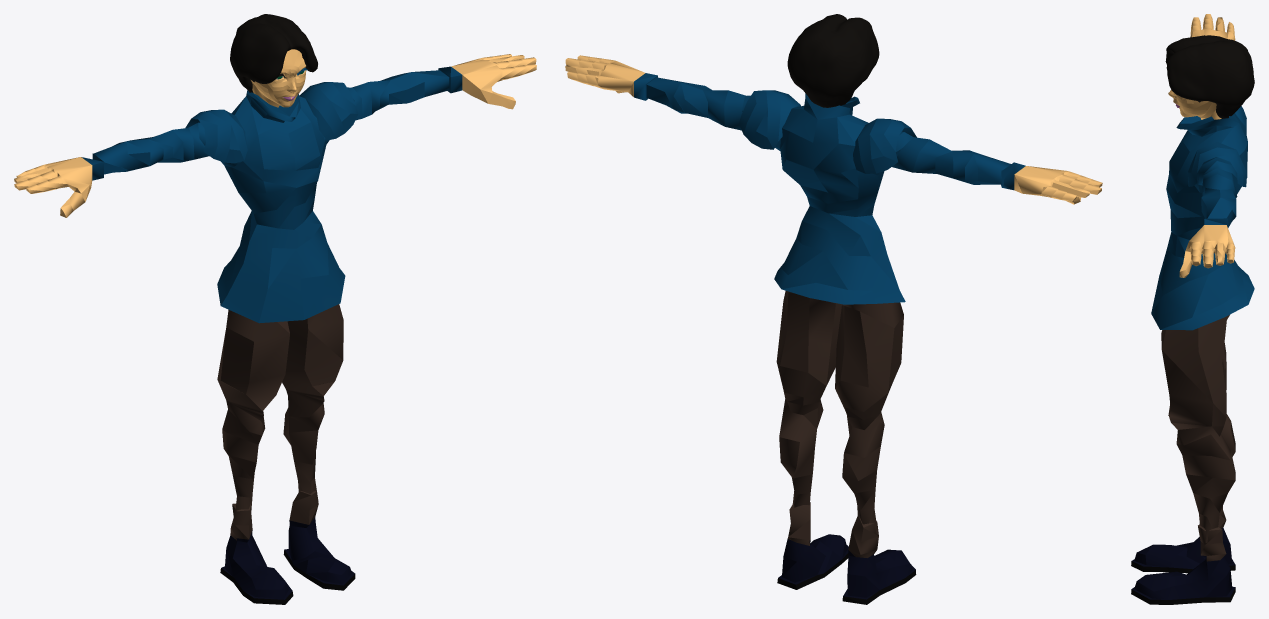
Rendered from humanFoolMar2Five.obj.
The picture shows the model from 3 angles, left to right: view 1: azimuth 30°, elevation 25°; view 2: azimuth 150°, elevation 25°; view 3: azimuth 270°, elevation 25°; orthographic projection. The views are drawn at different scales.
Visible parts, largest first — view 1: humanFoolsRunPivotFour:Mesh; view 2: humanFoolsRunPivotFour:Mesh; view 3: humanFoolsRunPivotFour:Mesh.
Boxes of the visible parts, x1,y1,x2,y2 form: humanFoolsRunPivotFour:Mesh: [14, 14, 536, 604]; humanFoolsRunPivotFour:Mesh: [565, 14, 1102, 604]; humanFoolsRunPivotFour:Mesh: [1131, 14, 1254, 604].
Bounding box in the file's own units: 24.89 × 25.13 × 5.21.
